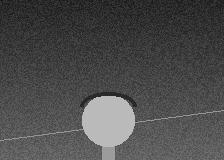no_helmet: (82, 92, 134, 151)
